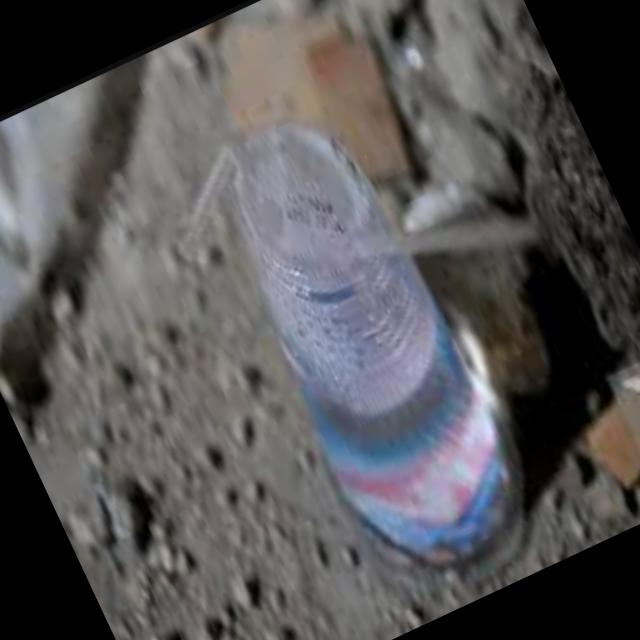GelasPlastik: (184, 85, 562, 615)
